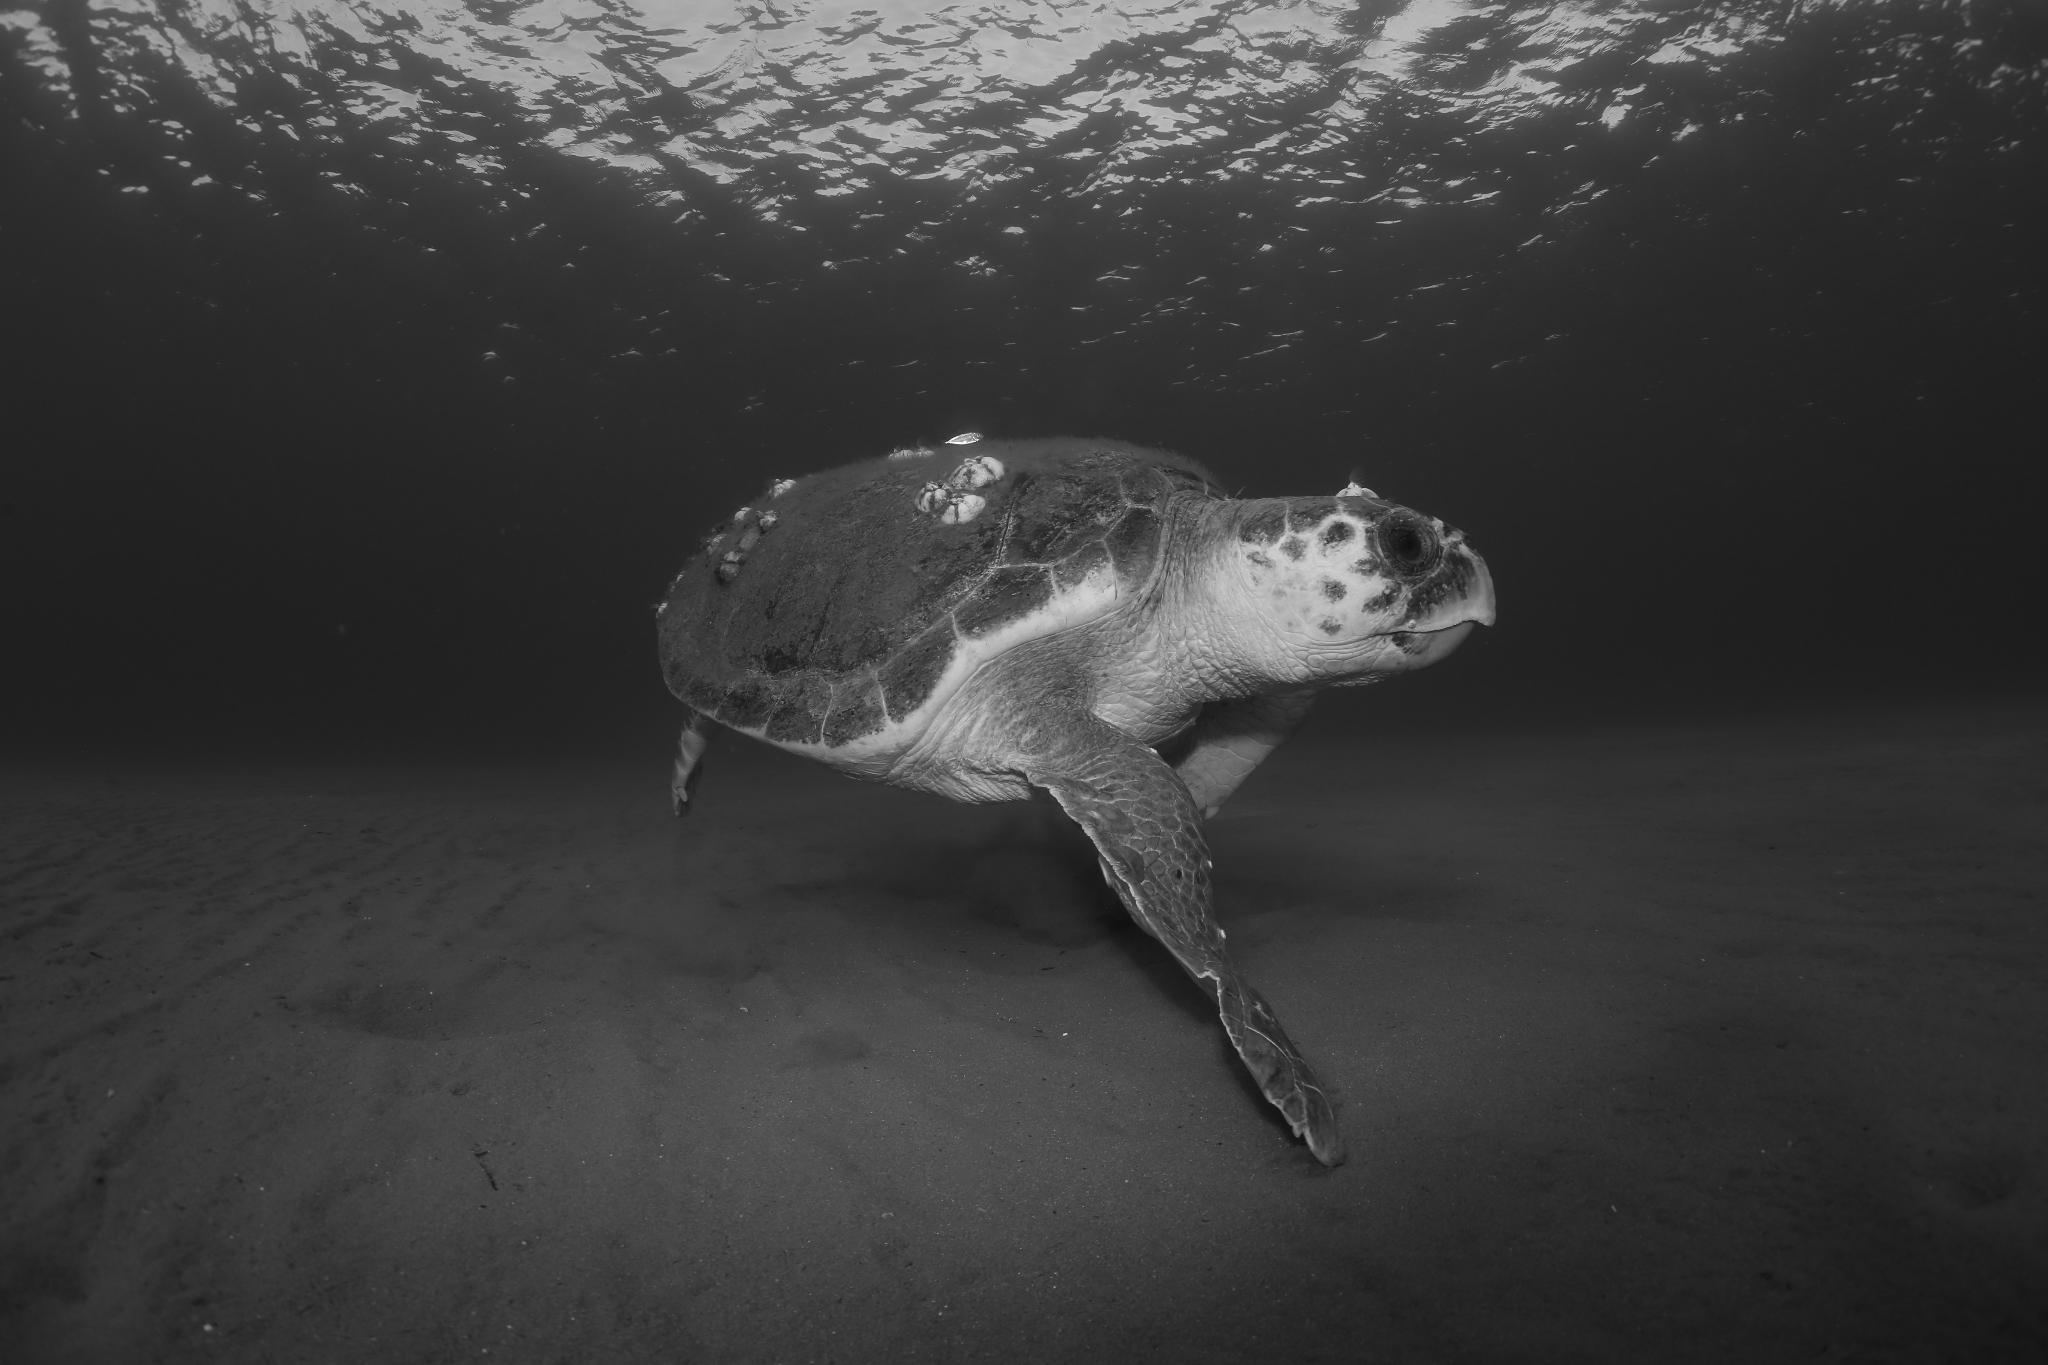Head: (1178, 487, 1494, 699)
